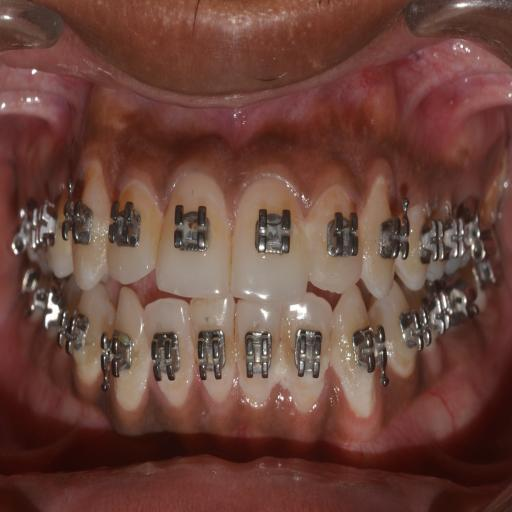correct_brace: (166, 199, 212, 256), (250, 202, 294, 261), (290, 322, 329, 386), (105, 194, 141, 254), (196, 324, 230, 386), (146, 328, 182, 386), (328, 206, 360, 265), (242, 326, 274, 380)
incorrect_brace: (306, 173, 366, 295), (139, 294, 194, 417), (278, 294, 336, 406), (105, 167, 157, 288)
